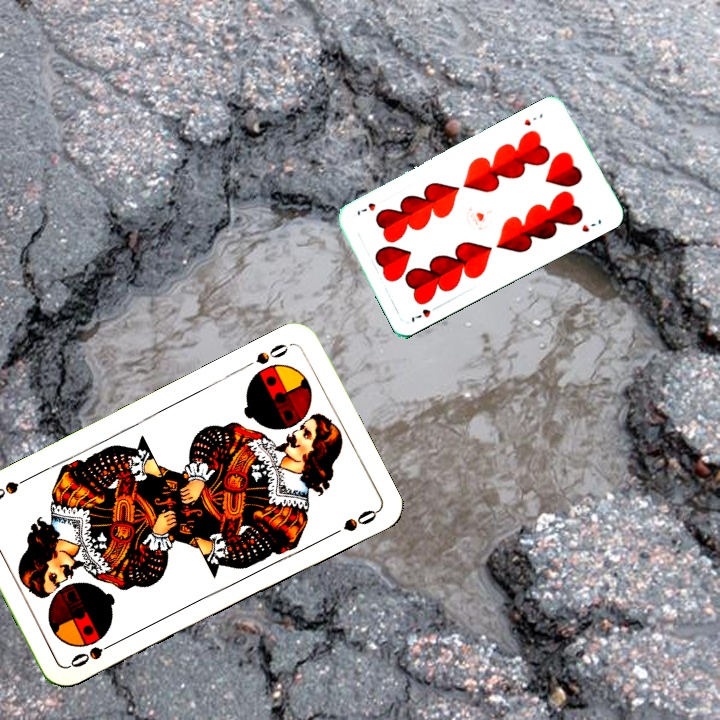H7: (407, 301, 443, 325), (520, 109, 545, 128)
SO: (65, 636, 120, 671), (239, 339, 294, 372)
